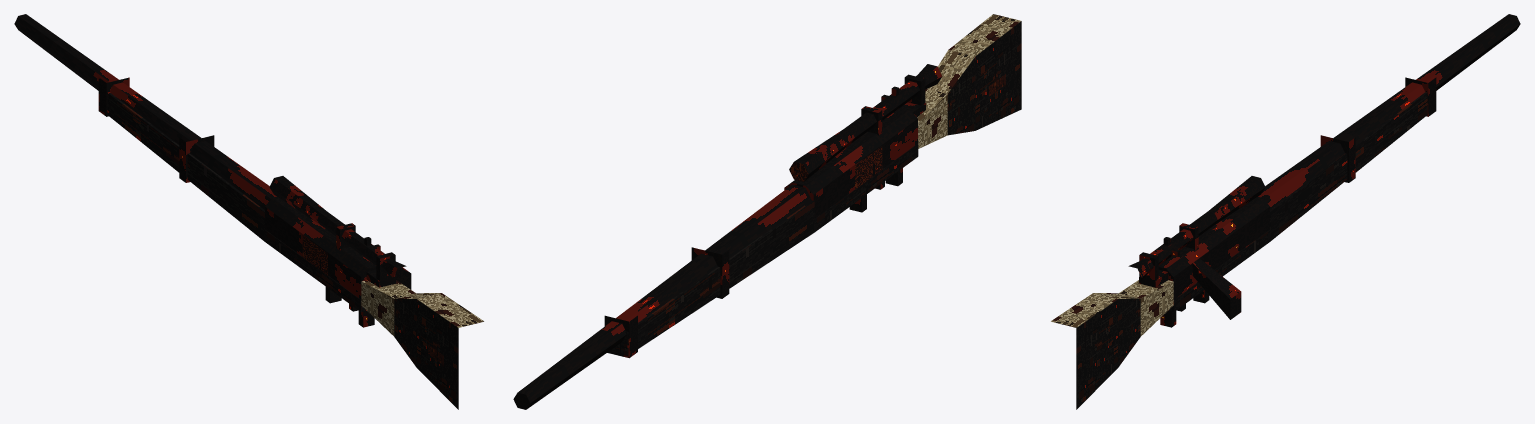
File: rifle_lowpoly.glb
The picture shows the model from 3 angles, left to right: view 1: azimuth 30°, elevation 25°; view 2: azimuth 150°, elevation 25°; view 3: azimuth 330°, elevation 25°; orthographic projection. The views are drawn at different scales.
Visible parts, largest first — view 1: Rifle; view 2: Rifle; view 3: Rifle.
Part boxes in pixels (x1=…): Rifle: x1=14, y1=14, x2=483, y2=409; Rifle: x1=513, y1=14, x2=1021, y2=409; Rifle: x1=1051, y1=14, x2=1520, y2=409.
Bounding box in the file's own units: 0.129 × 0.1693 × 1.49.
